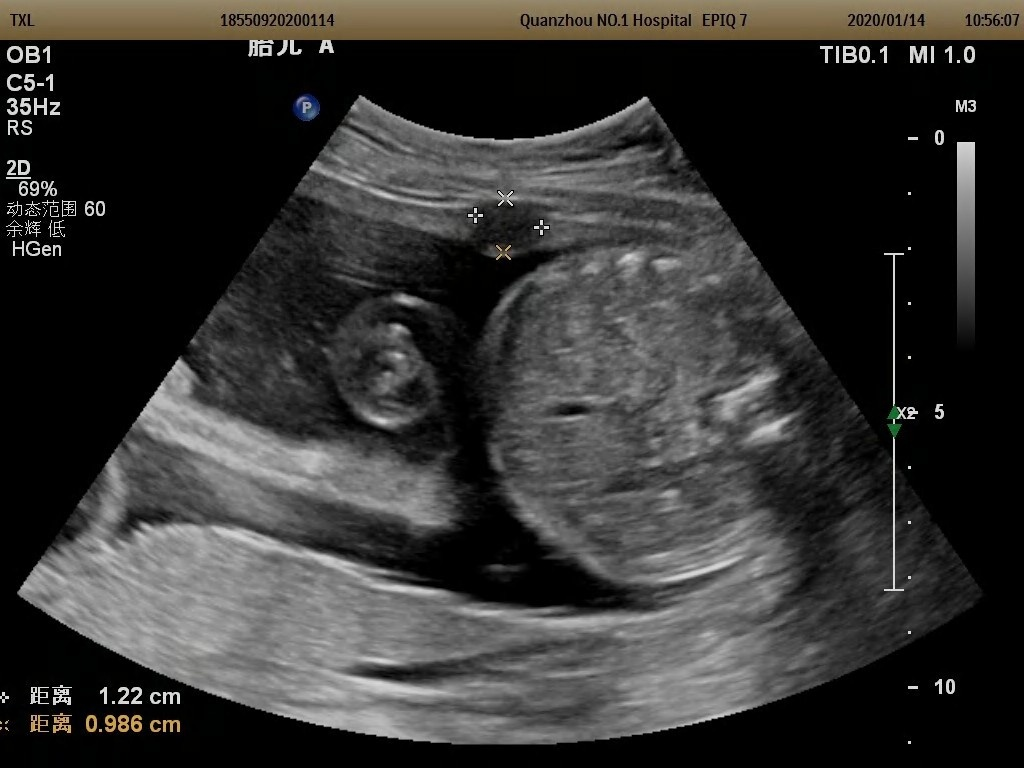肌瘤: (473, 199, 541, 246)
